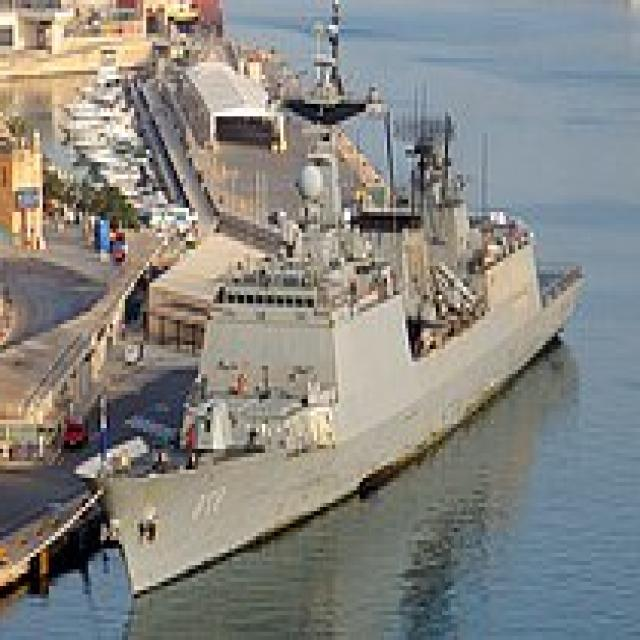Warship: (98, 87, 600, 598)
